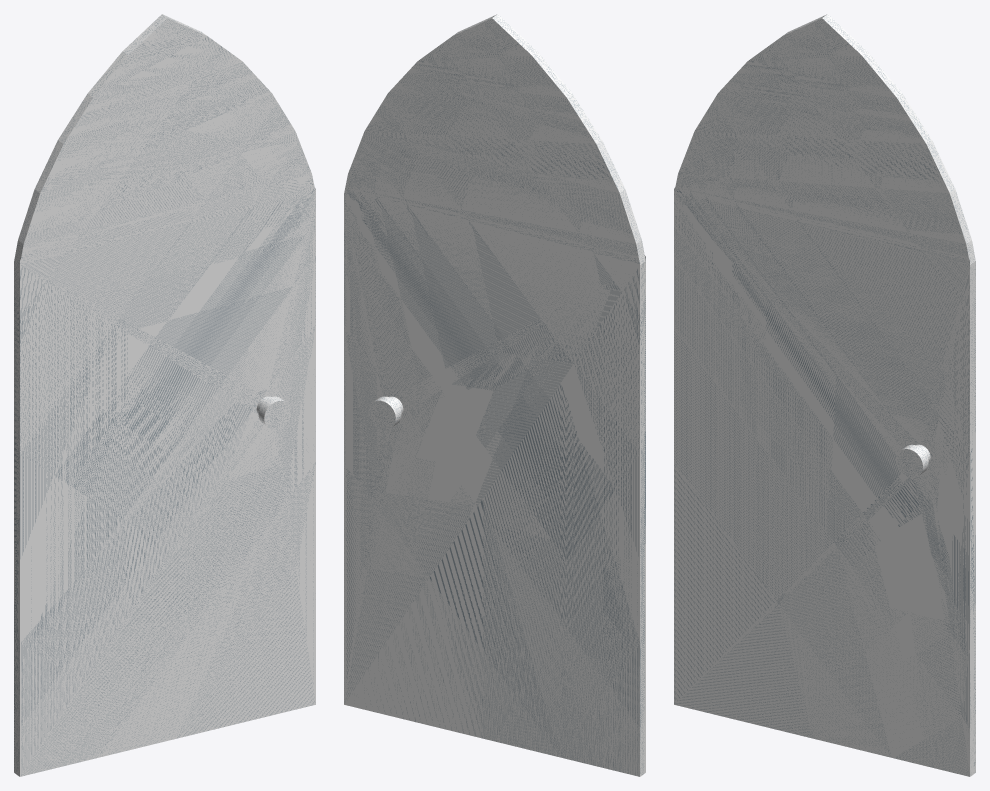
The model's file is doorA.fbx.
3 renders of one model, left to right at view 1: azimuth 30°, elevation 25°; view 2: azimuth 150°, elevation 25°; view 3: azimuth 330°, elevation 25°, orthographic.
Parts seen in each view (by area): view 1: Model; view 2: Model; view 3: Model.
Boxes of the visible parts, left/top/right/bottom form: Model: left=14, top=14, right=315, bottom=776; Model: left=344, top=14, right=645, bottom=776; Model: left=674, top=14, right=975, bottom=776.
Size of the model in its own units: 3 by 7 by 0.5.
